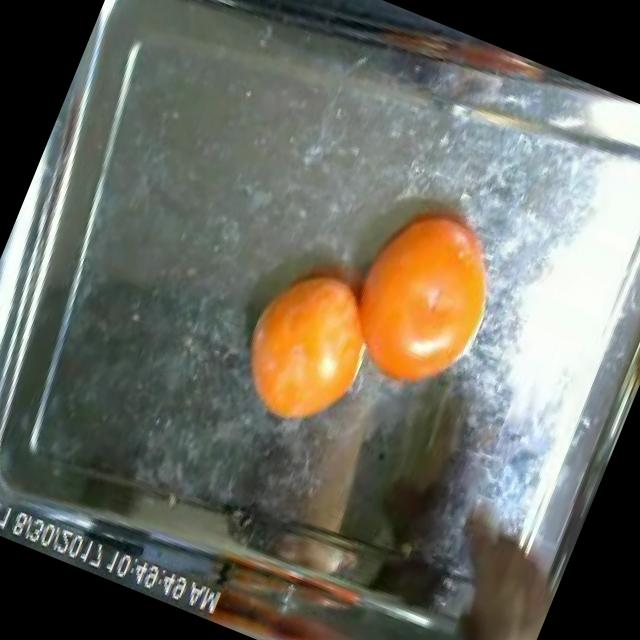Fruit: (310, 165, 530, 422), (208, 245, 400, 455)
